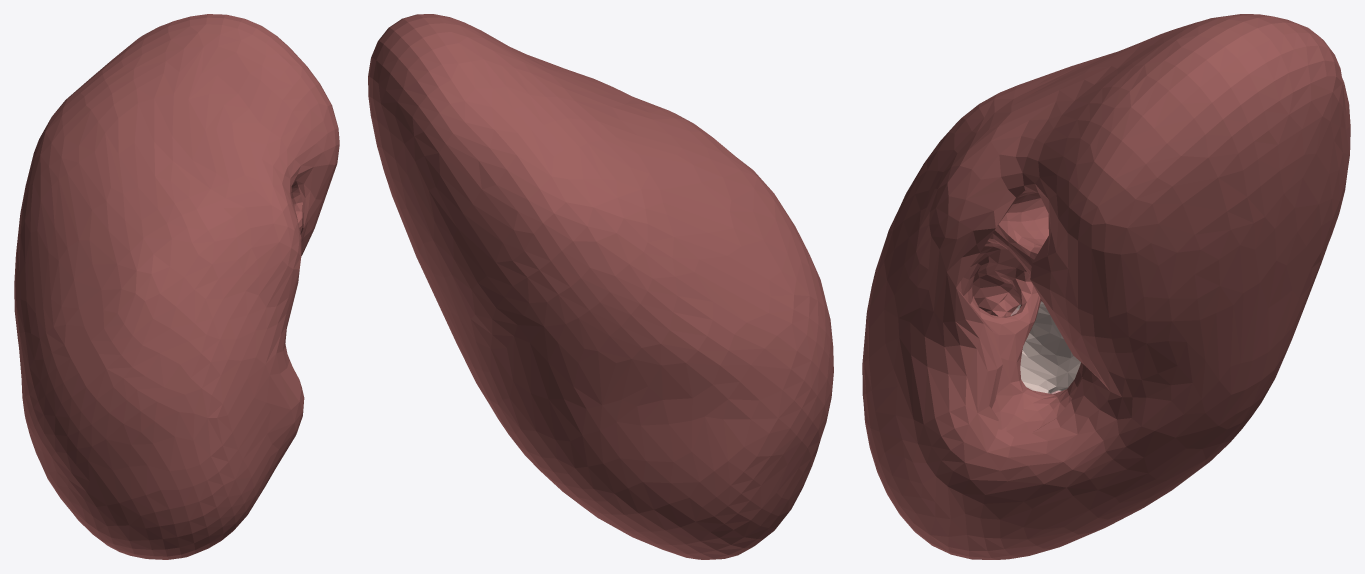
The model's file is VH_F_Kidney_R_0.4.glb.
3 renders of one model, left to right at view 1: azimuth 30°, elevation 25°; view 2: azimuth 150°, elevation 25°; view 3: azimuth 270°, elevation 25°, orthographic. The views are drawn at different scales.
Parts seen in each view (by area): view 1: VH_F_kidney_capsule_R; view 2: VH_F_kidney_capsule_R; view 3: VH_F_kidney_capsule_R, VH_F_hilum_of_kidney_R, VH_F_renal_column_R.
Boxes of the visible parts, x1,y1,x2,y2 form: VH_F_kidney_capsule_R: (14, 14, 339, 559); VH_F_kidney_capsule_R: (368, 14, 833, 559); VH_F_kidney_capsule_R: (862, 14, 1350, 559); VH_F_hilum_of_kidney_R: (961, 190, 1086, 436); VH_F_renal_column_R: (1010, 301, 1080, 393).
Size of the model in its own units: 0.0734 by 0.0979 by 0.0695.
